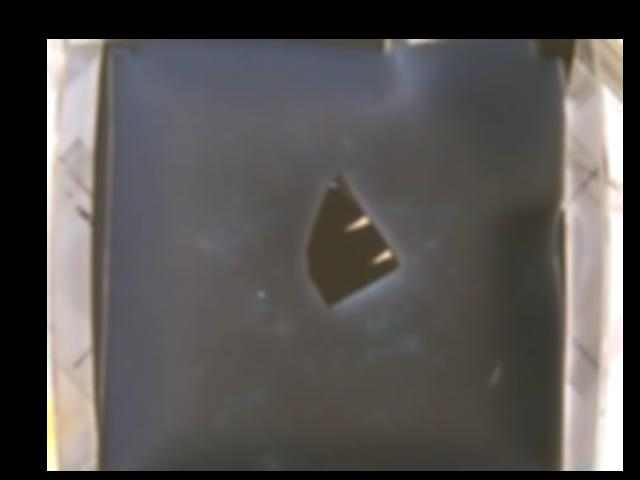China: (305, 173, 400, 310)
